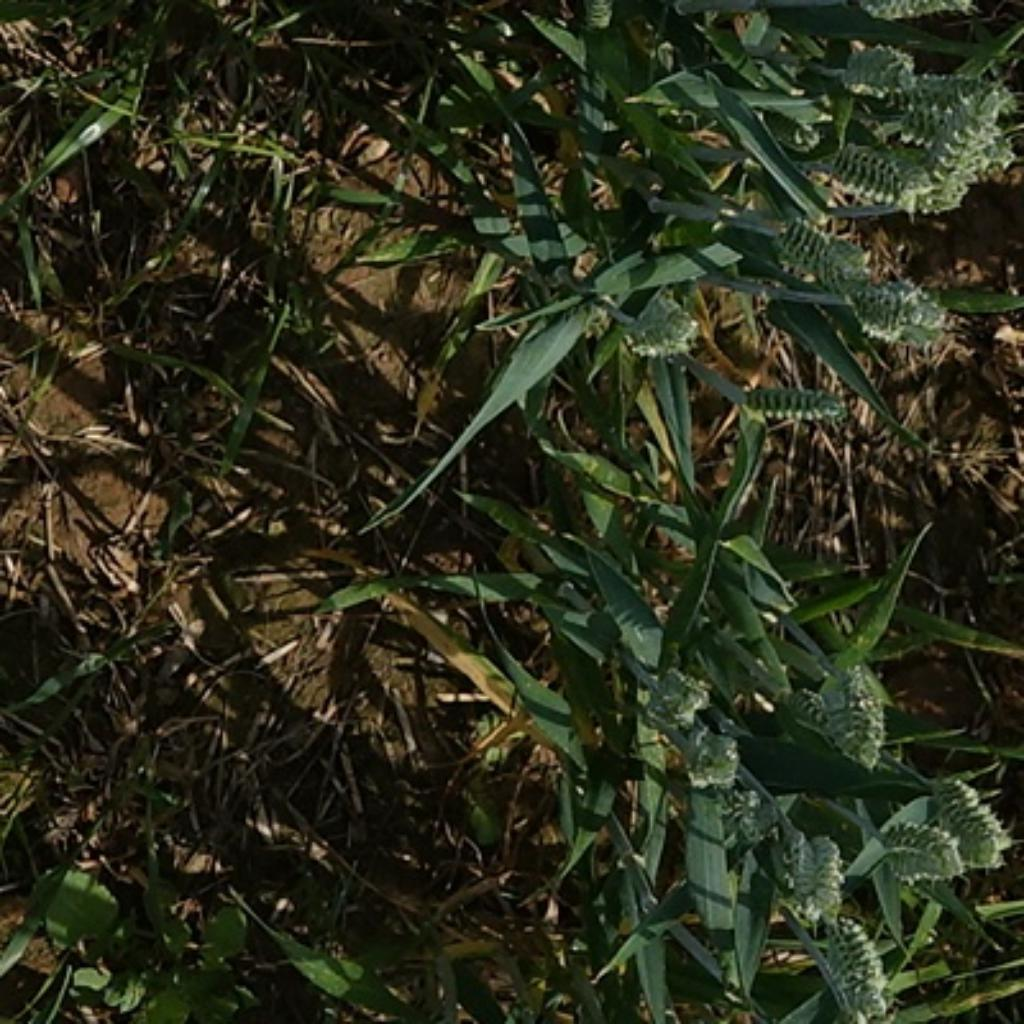0-0: (801, 647, 896, 768), (803, 906, 896, 1024), (926, 94, 1013, 220), (834, 261, 954, 345), (765, 209, 875, 299), (916, 765, 1011, 865), (819, 138, 942, 207), (622, 655, 711, 750), (896, 97, 1013, 161), (732, 373, 855, 432), (665, 711, 750, 793), (773, 826, 849, 916), (616, 286, 704, 360), (878, 816, 957, 890), (834, 38, 921, 104), (898, 76, 1016, 120), (845, 0, 986, 28), (732, 793, 778, 844)
